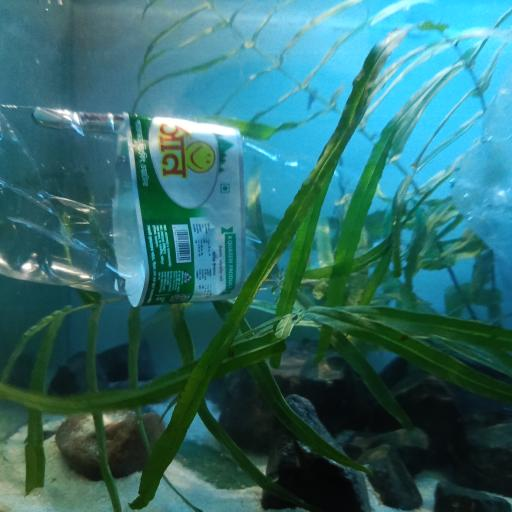plastic_bag: (452, 73, 512, 268)
plastic_bottle: (0, 105, 378, 305)
